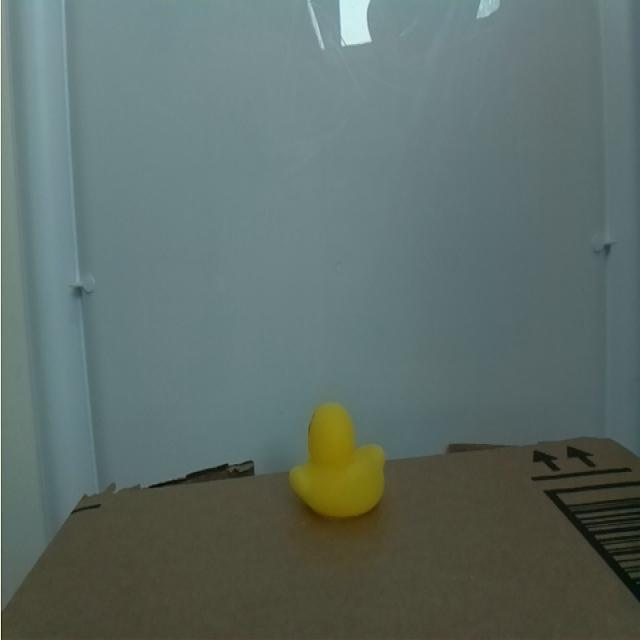duck_regular: (264, 370, 406, 544)
